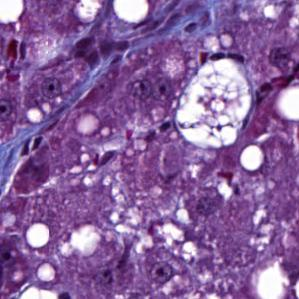ballooning: (173, 51, 255, 151)
